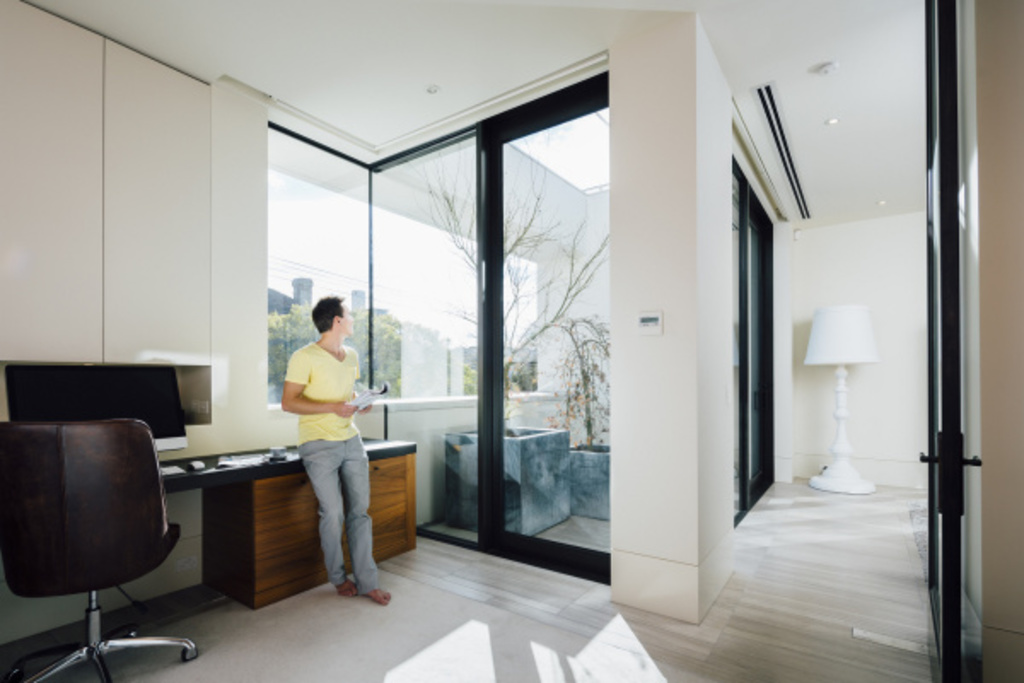Door: (483, 72, 609, 586), (920, 0, 983, 681)
